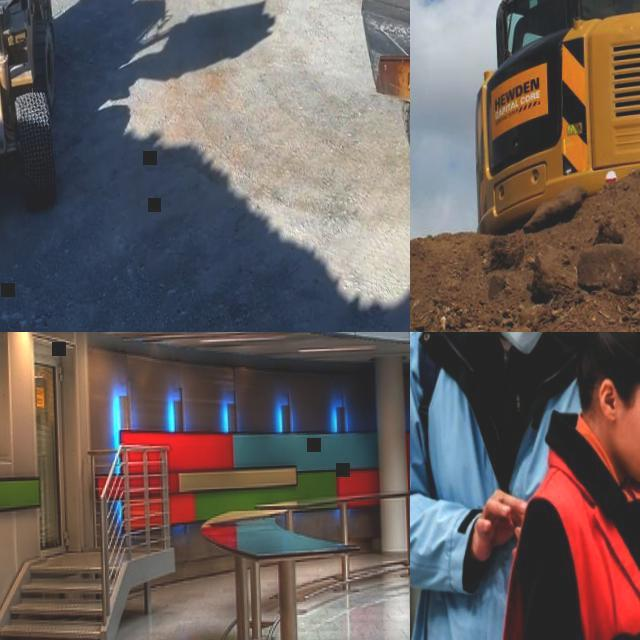machinery: (467, 0, 640, 250), (0, 0, 67, 245), (348, 0, 410, 257)
mask: (477, 332, 570, 359)
no_helmet: (570, 332, 640, 371)
no_mask: (618, 432, 640, 483)
no_vest: (410, 332, 591, 640), (512, 464, 640, 640)
person: (410, 332, 598, 640), (489, 332, 640, 640)
